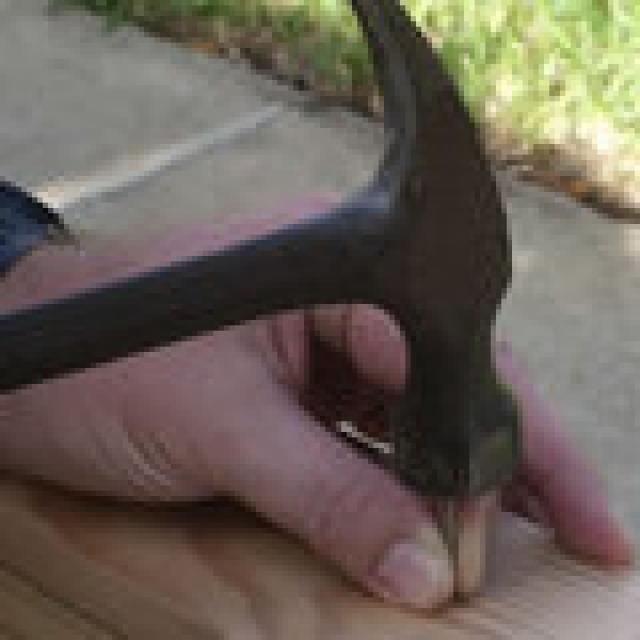hammer: (0, 0, 542, 491)
